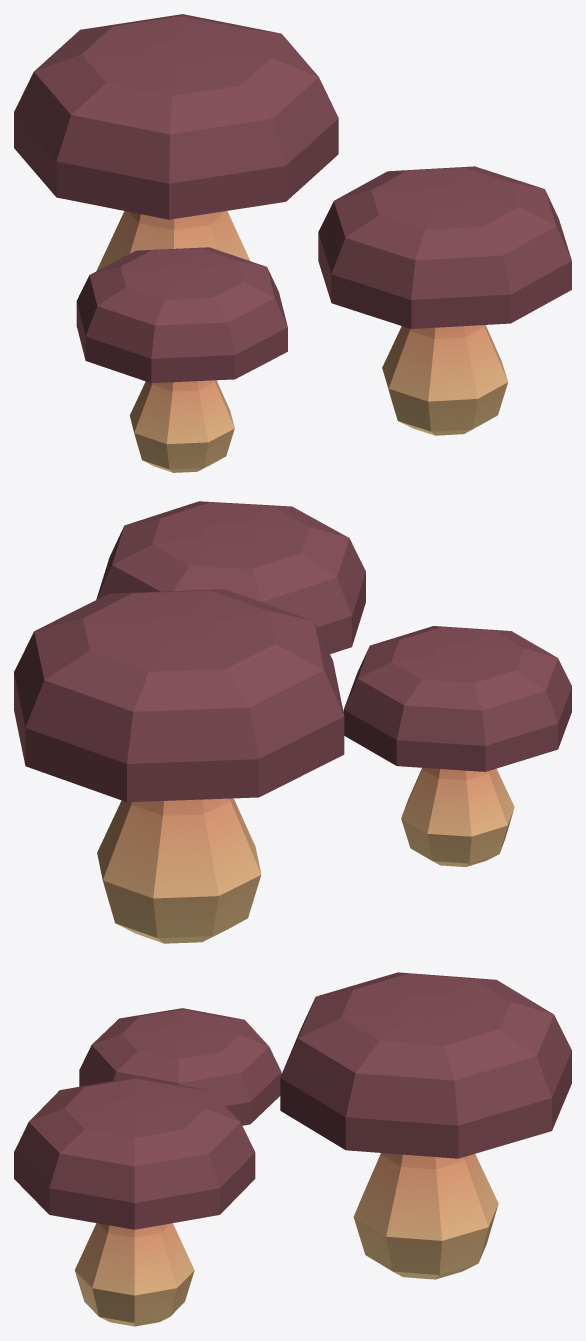
File: Cavern_Mushroom_Bunch02.fbx
3 renders of one model, top to bottom at view 1: azimuth 30°, elevation 25°; view 2: azimuth 150°, elevation 25°; view 3: azimuth 270°, elevation 25°, orthographic. The views are drawn at different scales.
Parts seen in each view (by area): view 1: Cylinder.203; view 2: Cylinder.203; view 3: Cylinder.203.
Part boxes in pixels (box(x1,y1,x2,y2)): Cylinder.203: box(14, 14, 571, 472); Cylinder.203: box(14, 501, 571, 943); Cylinder.203: box(14, 972, 571, 1326).
Size of the model in its own units: 26.08 by 15.44 by 30.68.
